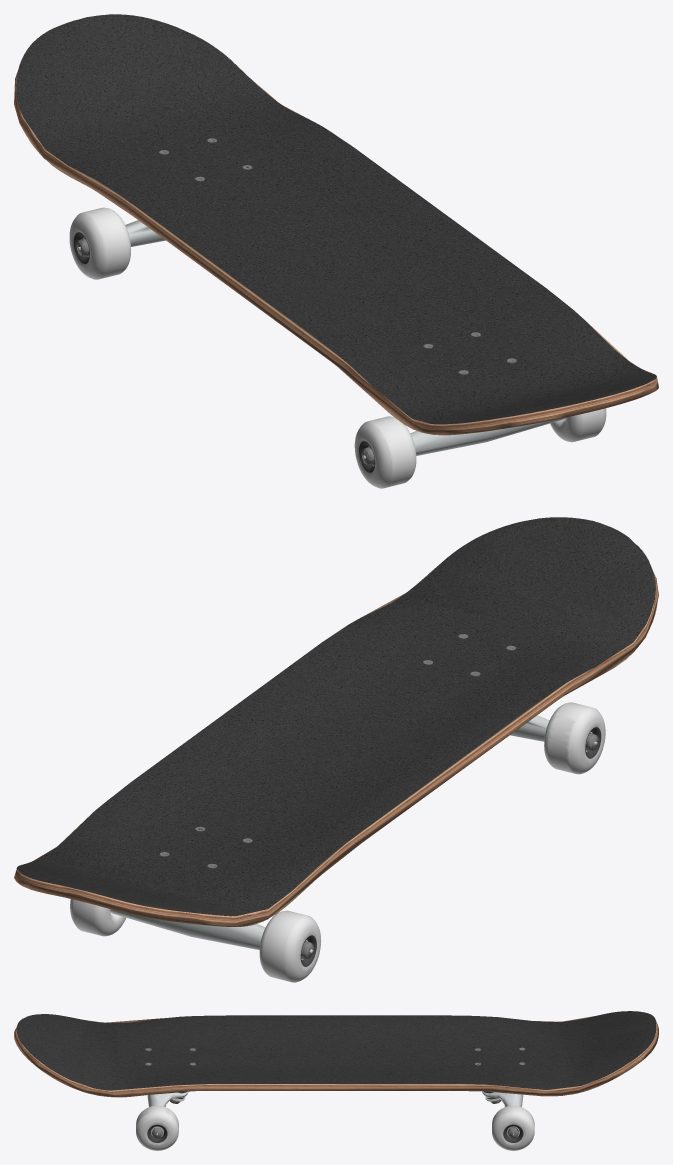
Rendered from skate_hq.glb.
3 renders of one model, top to bottom at view 1: azimuth 30°, elevation 25°; view 2: azimuth 150°, elevation 25°; view 3: azimuth 270°, elevation 25°, orthographic. The views are drawn at different scales.
Parts seen in each view (by area): view 1: skateboard; view 2: skateboard; view 3: skateboard.
Part boxes in pixels (left/top/right/bottom): skateboard: left=14, top=14, right=658, bottom=488; skateboard: left=14, top=517, right=658, bottom=982; skateboard: left=14, top=1011, right=658, bottom=1150.
Bounding box in the file's own units: 0.211 × 0.1285 × 0.8096.
8 materials, 5 textured.
